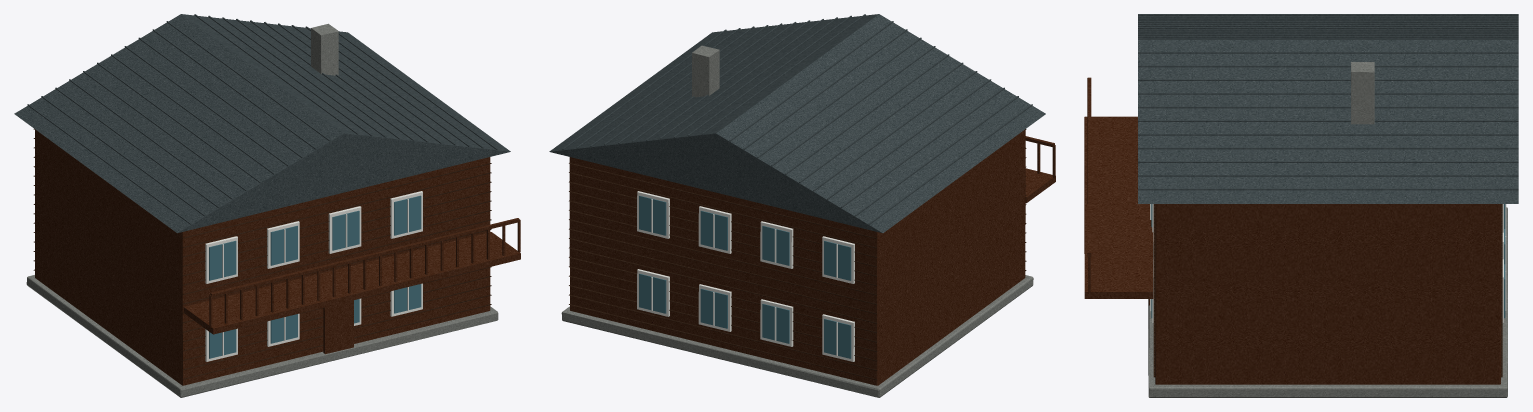
The model's file is House_Chalet_LOD1.glb.
The picture shows the model from 3 angles, left to right: view 1: azimuth 30°, elevation 25°; view 2: azimuth 150°, elevation 25°; view 3: azimuth 270°, elevation 25°; orthographic projection. The views are drawn at different scales.
Visible parts, largest first — view 1: House_Chalet_export; view 2: House_Chalet_export; view 3: House_Chalet_export.
Part boxes in pixels (box(x1,y1,x2,y2)): House_Chalet_export: box(14, 14, 520, 397); House_Chalet_export: box(549, 14, 1055, 397); House_Chalet_export: box(1084, 14, 1518, 397).
Bounding box in the file's own units: 13 × 9.09 × 12.54.
6 materials, 4 textured.
